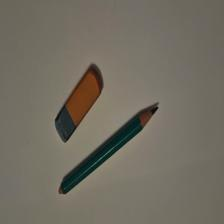eraser: (56, 69, 103, 144)
pencil: (60, 107, 160, 196)
